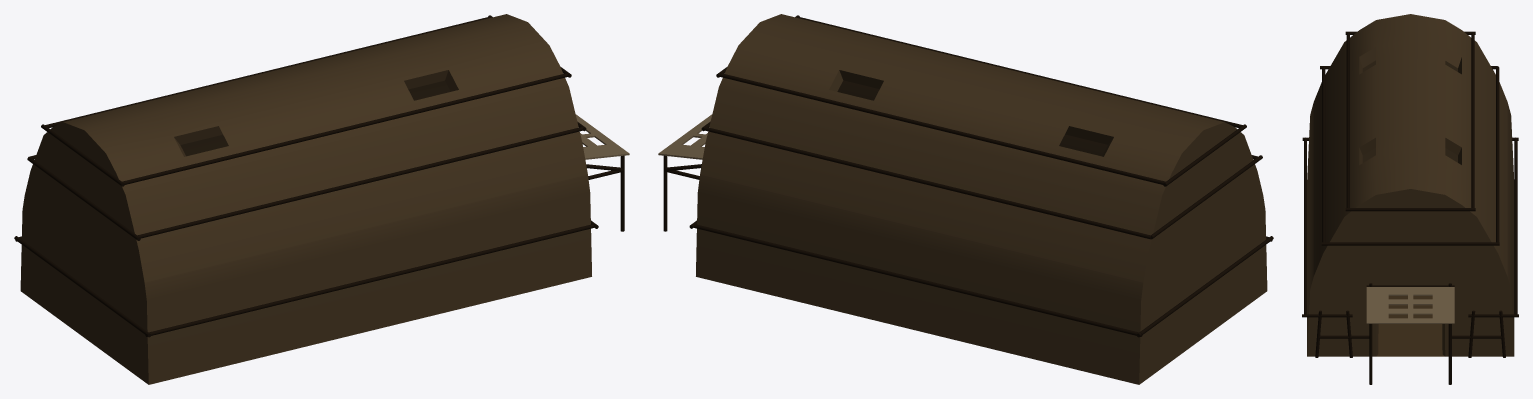
The model's file is Hut_Textured.fbx.
3 views of the same model, side by side, from view 1: azimuth 30°, elevation 25°; view 2: azimuth 150°, elevation 25°; view 3: azimuth 270°, elevation 25° (orthographic). The views are drawn at different scales.
Visible parts, largest first — view 1: polySurface2; view 2: polySurface2; view 3: polySurface2.
Boxes of the visible parts, bbox=[...] form: polySurface2: bbox=[14, 14, 629, 384]; polySurface2: bbox=[658, 14, 1273, 384]; polySurface2: bbox=[1302, 14, 1518, 384].
Bounding box in the file's own units: 76.53 × 29.13 × 34.09.
